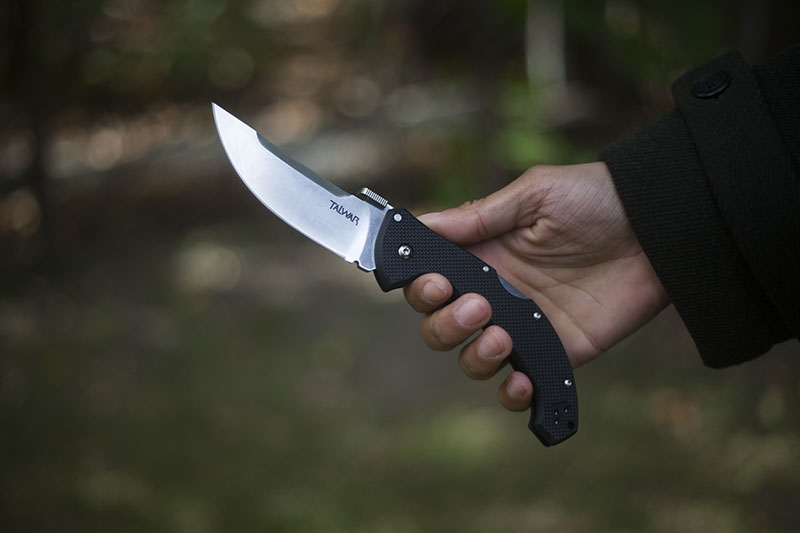knife: (205, 92, 591, 450)
